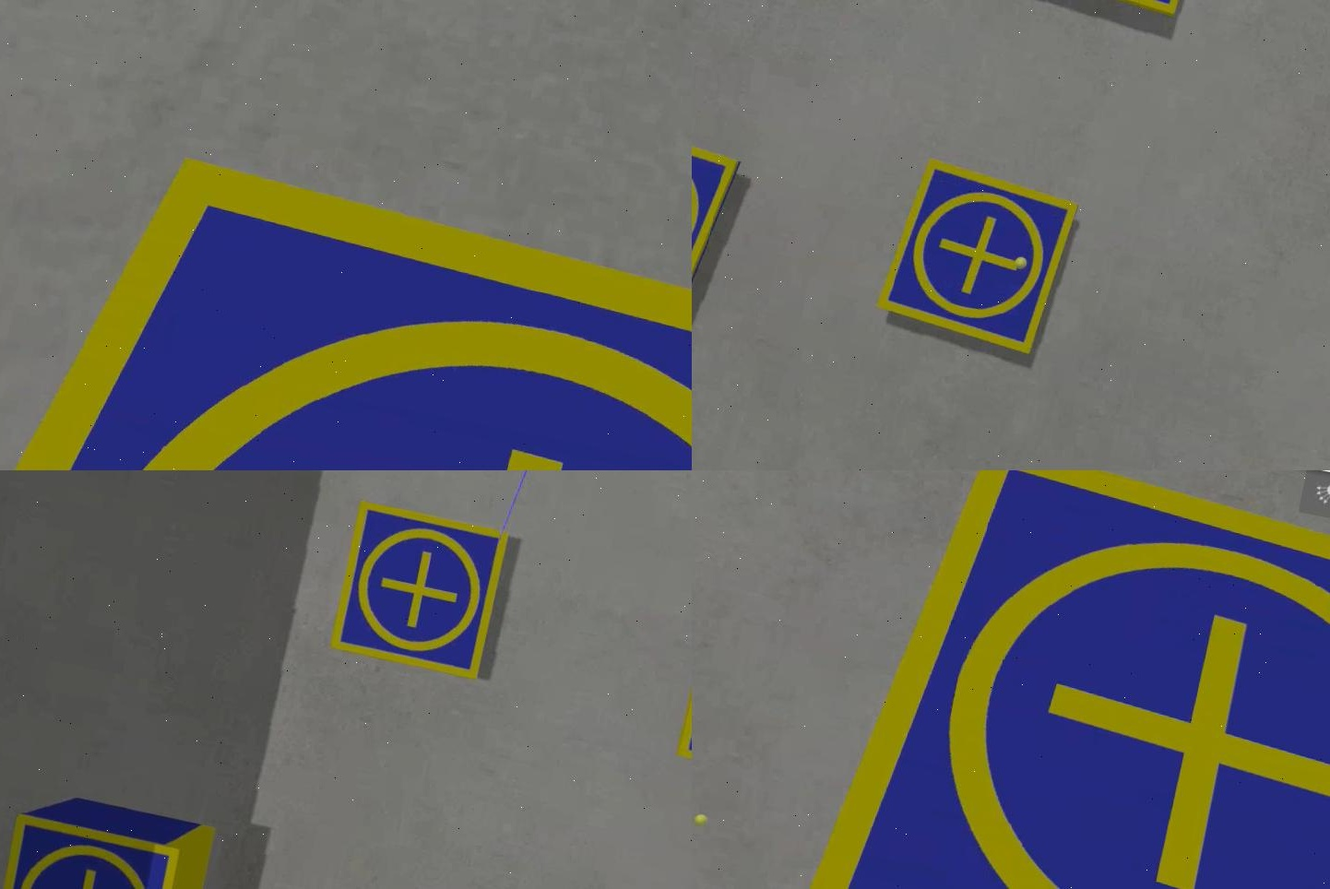small_base: (0, 117, 690, 471), (769, 471, 1328, 889), (869, 155, 1075, 363), (324, 498, 511, 681), (0, 812, 185, 889), (690, 110, 742, 323)
